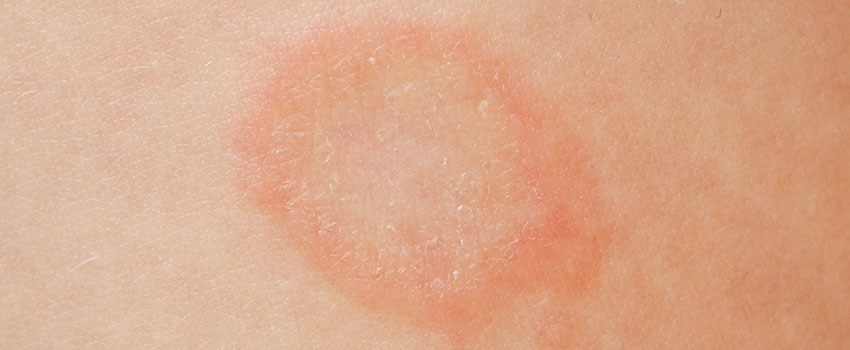Ringworm: (229, 6, 634, 337)
